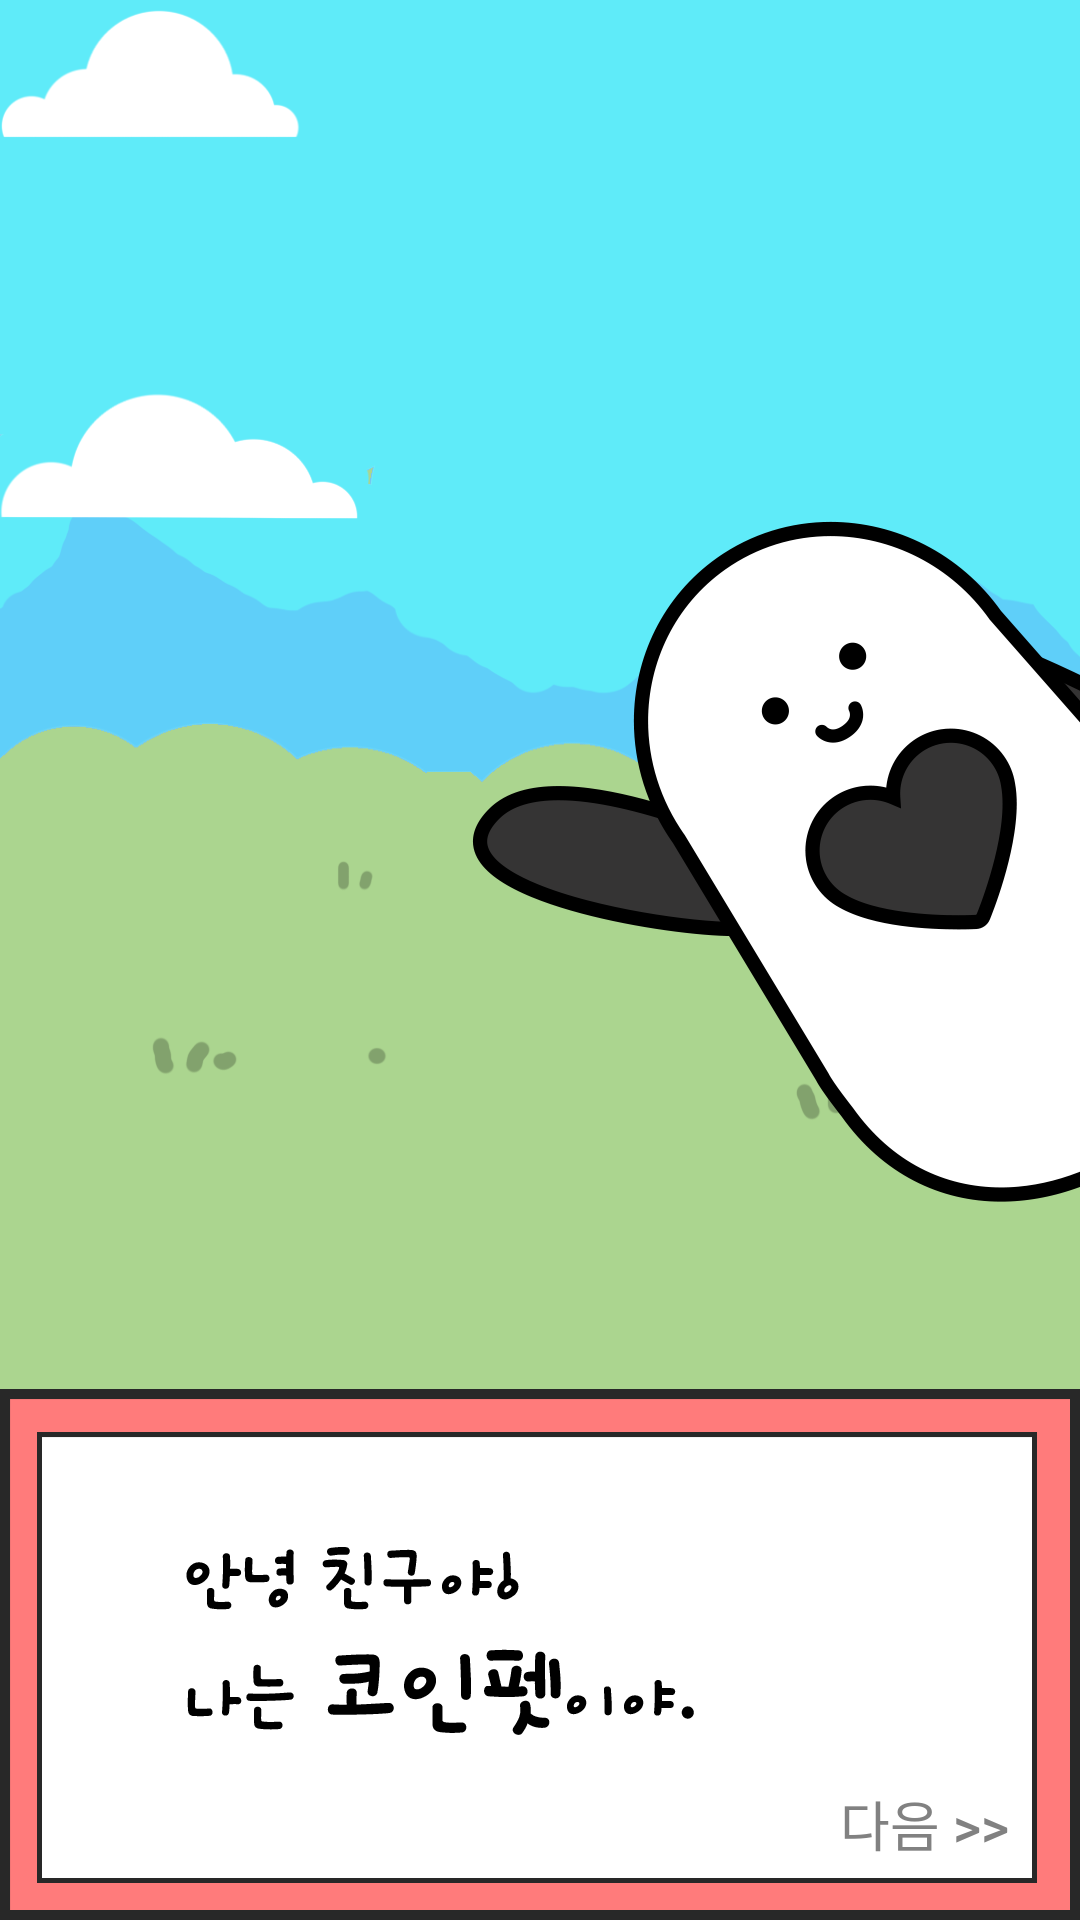

Icons on this 1080*1920 Android screen, each with the point to tap as (x=x, y=y):
cloud: (x=150, y=74), (x=179, y=456)
